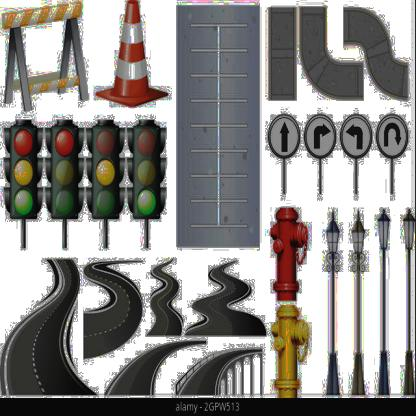U-turn: (377, 113, 410, 160)
